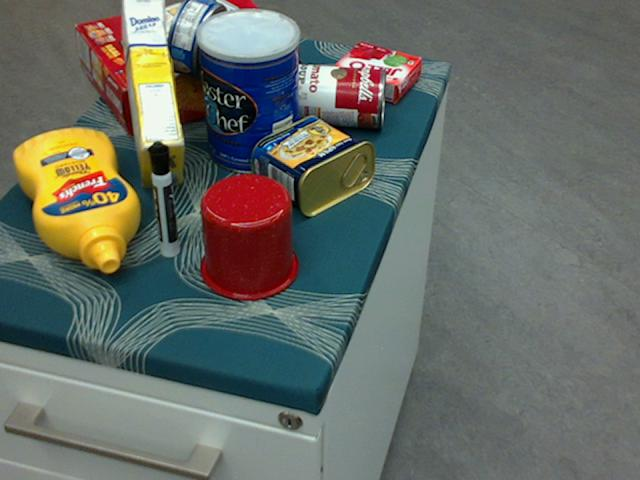cracker_box: (76, 0, 298, 137)
gelatin_box: (331, 43, 421, 101)
large_marker: (146, 141, 179, 255)
master_chef_can: (196, 8, 300, 174)
mug: (198, 172, 298, 299)
mustard_bottle: (12, 129, 139, 272)
potted_meat_can: (250, 113, 375, 217)
sugar_box: (121, 0, 185, 187)
tomato_soup_can: (290, 62, 387, 128)
tuna_fish_can: (165, 0, 228, 78)
